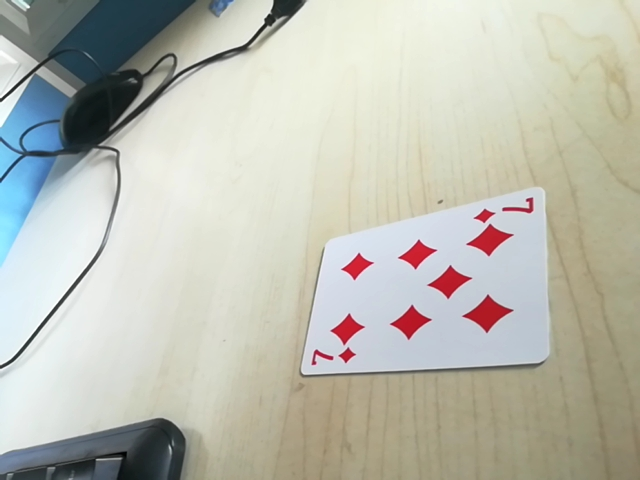fk 7: (474, 194, 539, 222), (302, 344, 358, 370)
